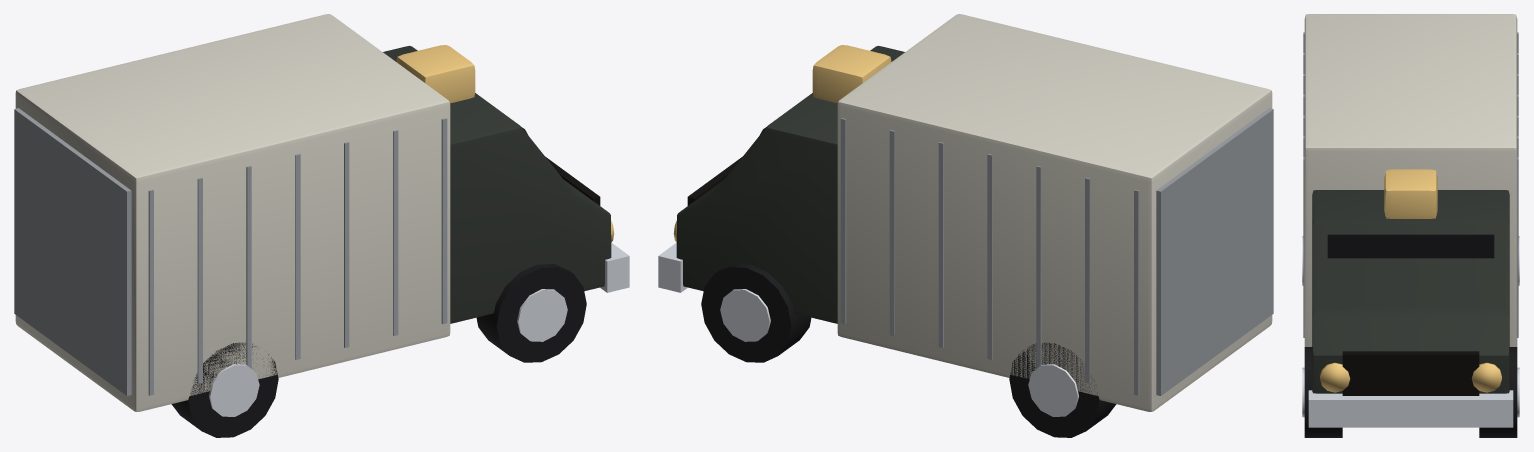
Rendered from truck.glb.
3 renders of one model, left to right at view 1: azimuth 30°, elevation 25°; view 2: azimuth 150°, elevation 25°; view 3: azimuth 270°, elevation 25°, orthographic. The views are drawn at different scales.
Parts seen in each view (by area): view 1: Body, Wheels, LampRoof, Chrome; view 2: Body, Wheels, LampRoof, Chrome; view 3: Body, Chrome, LampRoof, Wheels.
Part boxes in pixels (x1=…): Body: x1=14, y1=14, x2=611, y2=411; Wheels: x1=171, y1=264, x2=586, y2=437; LampRoof: x1=396, y1=45, x2=475, y2=103; Chrome: x1=545, y1=156, x2=629, y2=292; Body: x1=676, y1=14, x2=1273, y2=411; Wheels: x1=701, y1=264, x2=1116, y2=437; LampRoof: x1=812, y1=45, x2=891, y2=103; Chrome: x1=658, y1=156, x2=742, y2=292; Body: x1=1303, y1=14, x2=1518, y2=393; Chrome: x1=1308, y1=351, x2=1513, y2=427; LampRoof: x1=1384, y1=169, x2=1437, y2=218; Wheels: x1=1302, y1=236, x2=1519, y2=437.
Size of the model in its own units: 0.666 by 0.36 by 0.286.
